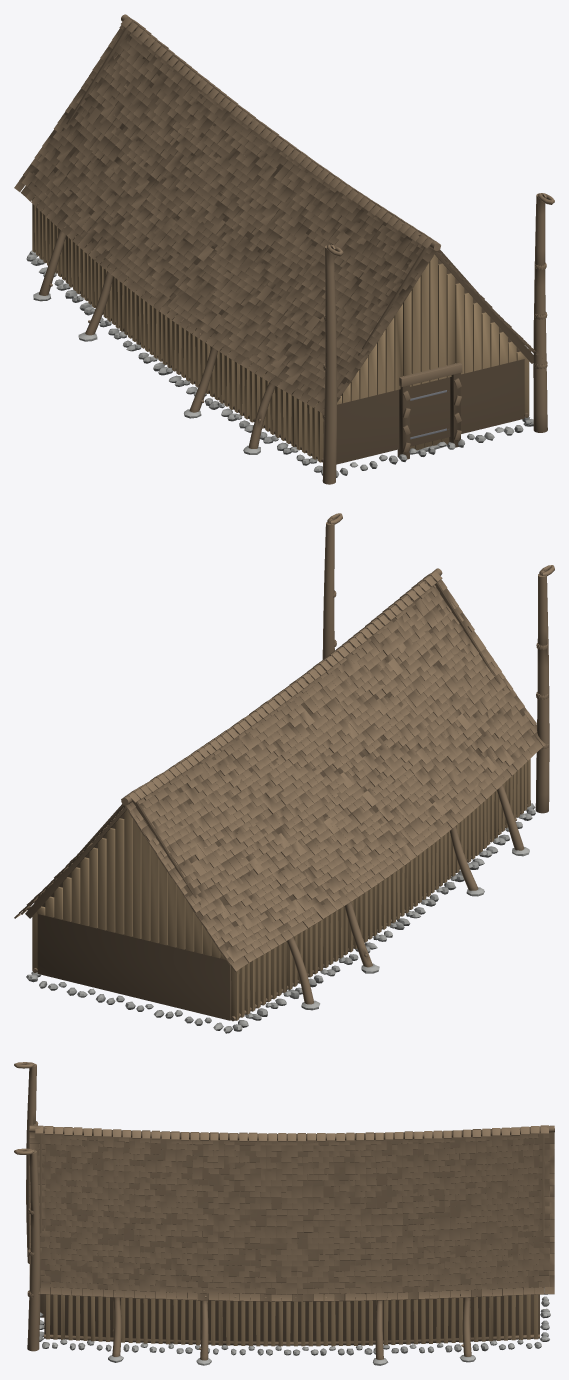
Rendered from berk_longhouse.glb.
The picture shows the model from 3 angles, top to bottom: view 1: azimuth 30°, elevation 25°; view 2: azimuth 150°, elevation 25°; view 3: azimuth 270°, elevation 25°; orthographic projection. The views are drawn at different scales.
Visible parts, largest first — view 1: berk_longhouse; view 2: berk_longhouse; view 3: berk_longhouse.
Boxes of the visible parts, box(x1,y1,x2,y2) form: berk_longhouse: box(14, 14, 554, 484); berk_longhouse: box(14, 513, 554, 1033); berk_longhouse: box(14, 1062, 554, 1365).
Bounding box in the file's own units: 10.52 × 8.01 × 19.65.
